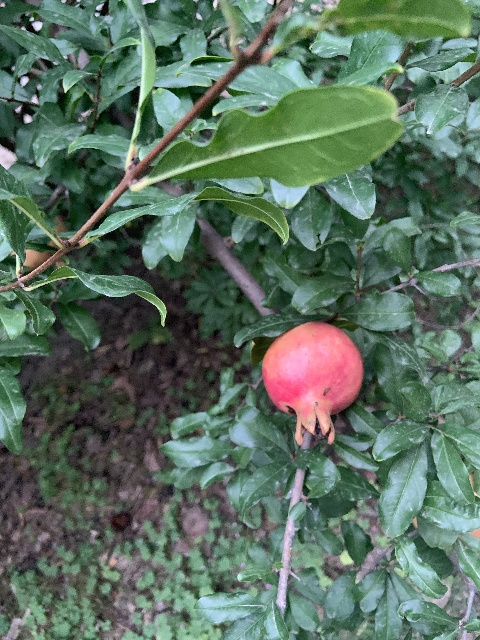ripe: (261, 321, 364, 447)
